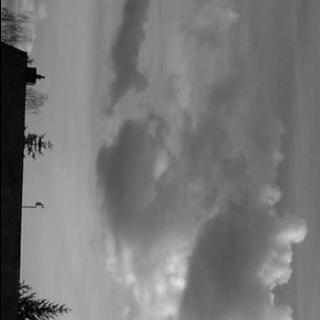Cumulus: (90, 0, 320, 320)
